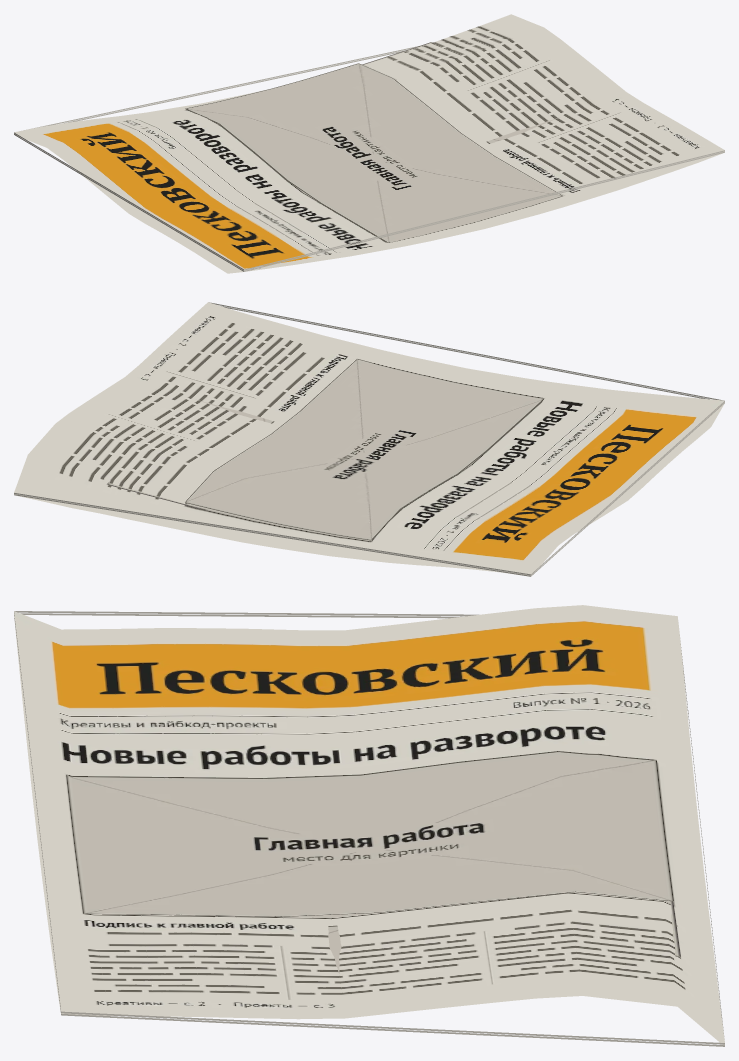
File: newspaper.glb
The picture shows the model from 3 angles, top to bottom: view 1: azimuth 30°, elevation 25°; view 2: azimuth 150°, elevation 25°; view 3: azimuth 270°, elevation 25°; orthographic projection. The views are drawn at different scales.
Visible parts, largest first — view 1: News_Left, News_Slot_F1, News_Right; view 2: News_Left, News_Slot_F1, News_Right; view 3: News_Left, News_Slot_F1, News_Right.
Part boxes in pixels (x1,y1,x2,y2): News_Left: [14, 14, 724, 272]; News_Slot_F1: [185, 63, 562, 242]; News_Right: [14, 49, 724, 273]; News_Left: [14, 302, 724, 575]; News_Slot_F1: [185, 359, 542, 540]; News_Right: [14, 306, 724, 576]; News_Left: [14, 605, 724, 1044]; News_Slot_F1: [72, 751, 673, 916]; News_Right: [14, 613, 724, 1046].
Size of the model in its own units: 0.3941 by 0.0328 by 0.2995.
2 materials, 2 textured.
